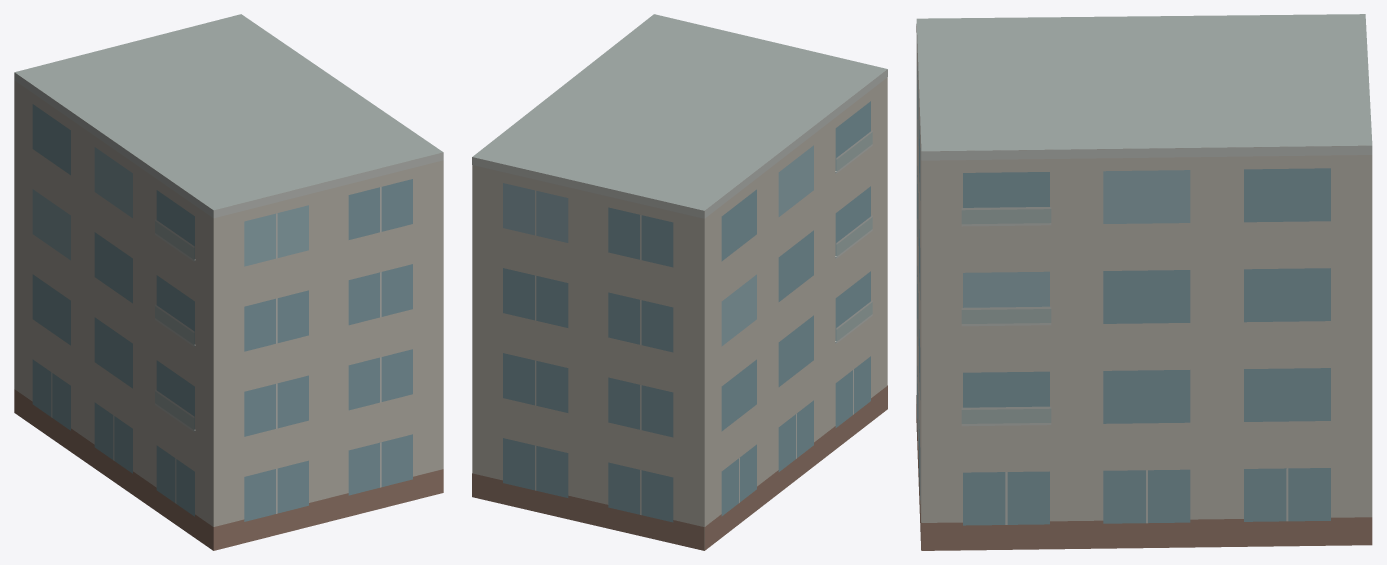
File: survey-upis-32592985.glb
3 renders of one model, left to right at view 1: azimuth 30°, elevation 25°; view 2: azimuth 150°, elevation 25°; view 3: azimuth 270°, elevation 25°, orthographic. The views are drawn at different scales.
Parts seen in each view (by area): view 1: survey-upis-32592985.tmp; view 2: survey-upis-32592985.tmp; view 3: survey-upis-32592985.tmp.
Boxes of the visible parts, <box> form: survey-upis-32592985.tmp: <box>14,14,443,550</box>; survey-upis-32592985.tmp: <box>472,14,887,550</box>; survey-upis-32592985.tmp: <box>916,14,1372,550</box>.
Size of the model in its own units: 7.68 by 10.4 by 10.77.
